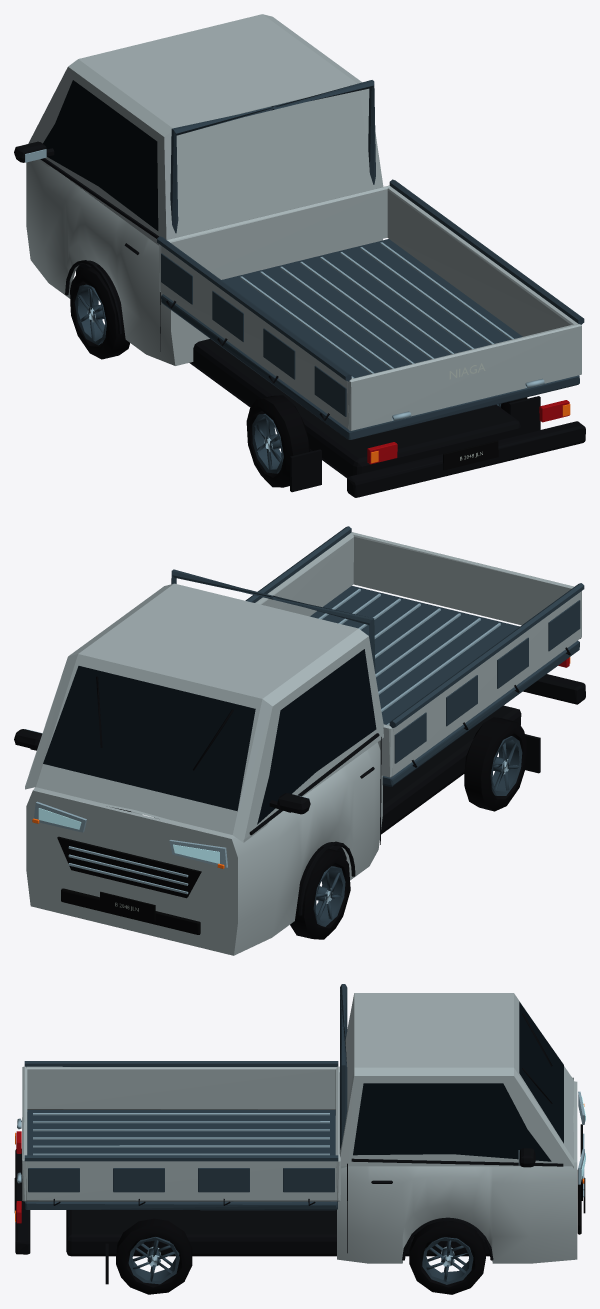
The model's file is utility_pickup_silver_lod1.glb.
3 renders of one model, top to bottom at view 1: azimuth 30°, elevation 25°; view 2: azimuth 150°, elevation 25°; view 3: azimuth 270°, elevation 25°, orthographic. The views are drawn at different scales.
Parts seen in each view (by area): view 1: Body_Mesh, Wheel_RL_Mesh, Wheel_FL_Mesh, TailLights_Mesh; view 2: Body_Mesh, Wheel_RL_Mesh, Wheel_FL_Mesh, Headlights_Mesh; view 3: Body_Mesh, Wheel_RR_Mesh, Wheel_FR_Mesh.
Boxes of the visible parts, x1=… form: Body_Mesh: x1=14, y1=14, x2=585, y2=497; Wheel_RL_Mesh: x1=246, y1=395, x2=310, y2=487; Wheel_FL_Mesh: x1=70, y1=265, x2=129, y2=359; TailLights_Mesh: x1=367, y1=400, x2=569, y2=464; Body_Mesh: x1=14, y1=526, x2=585, y2=955; Wheel_RL_Mesh: x1=464, y1=717, x2=527, y2=811; Wheel_FL_Mesh: x1=290, y1=846, x2=350, y2=939; Headlights_Mesh: x1=34, y1=801, x2=227, y2=868; Body_Mesh: x1=14, y1=984, x2=585, y2=1284; Wheel_RR_Mesh: x1=116, y1=1218, x2=192, y2=1294; Wheel_FR_Mesh: x1=409, y1=1218, x2=485, y2=1294.
Bounding box in the file's own units: 2.1 × 1.85 × 4.3.
Materials: 2 (1 with a texture image).
